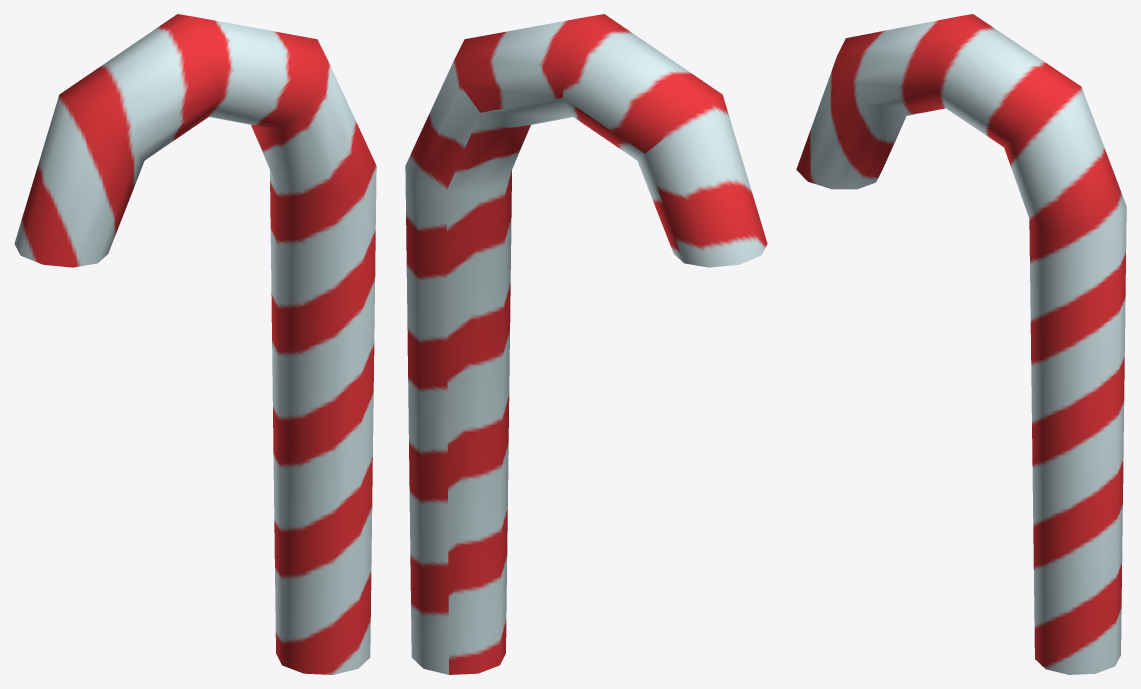
Rendered from bengalaDoce01.FBX.
The picture shows the model from 3 angles, left to right: view 1: azimuth 30°, elevation 25°; view 2: azimuth 150°, elevation 25°; view 3: azimuth 330°, elevation 25°; orthographic projection. The views are drawn at different scales.
Visible parts, largest first — view 1: bengalaDoce01; view 2: bengalaDoce01; view 3: bengalaDoce01.
Part boxes in pixels (x1,y1,x2,y2): bengalaDoce01: (14, 14, 376, 674); bengalaDoce01: (405, 14, 767, 674); bengalaDoce01: (796, 14, 1126, 674).
Bounding box in the file's own units: 78.21 × 144 × 20.18.
